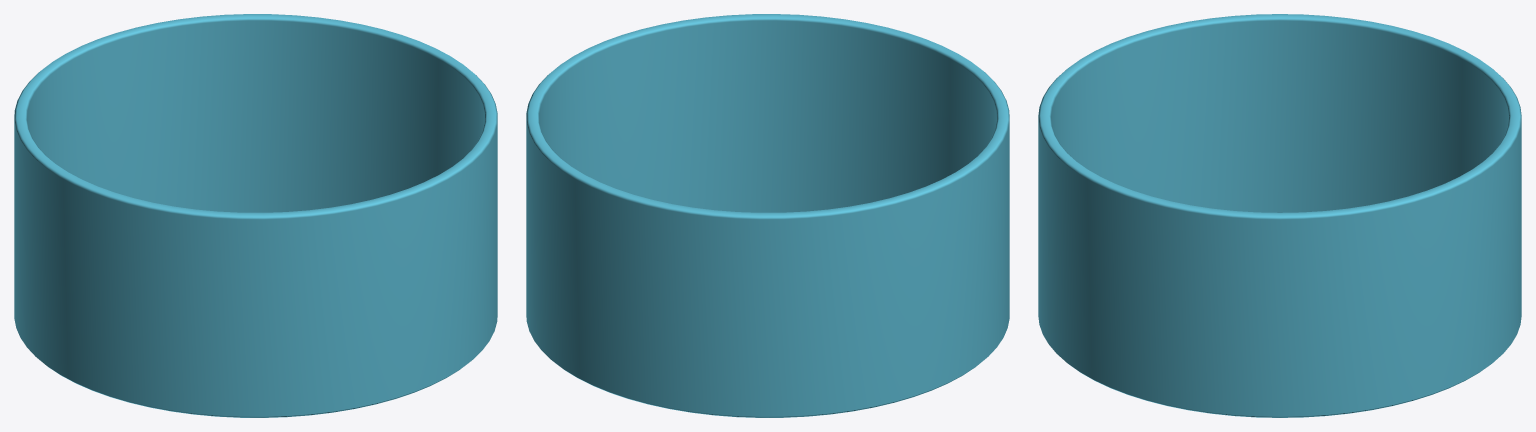
3 renders of one model, left to right at view 1: azimuth 30°, elevation 25°; view 2: azimuth 150°, elevation 25°; view 3: azimuth 270°, elevation 25°, orthographic.
Parts seen in each view (by area): view 1: seal_body; view 2: seal_body; view 3: seal_body.
Part boxes in pixels (box(x1,y1,x2,y2)): seal_body: box(14, 14, 497, 417); seal_body: box(526, 14, 1009, 417); seal_body: box(1038, 14, 1521, 417).
Size of the model in its own units: 0.0538 by 0.0248 by 0.0538.
